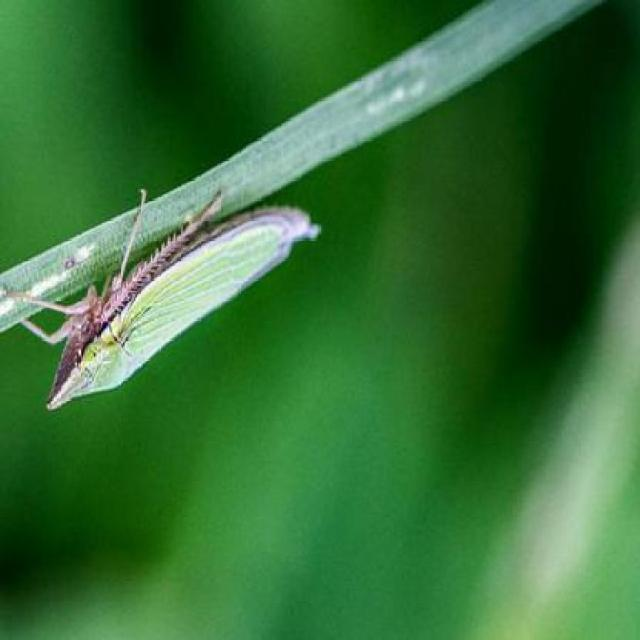green-leafhopper: (48, 180, 315, 414)
